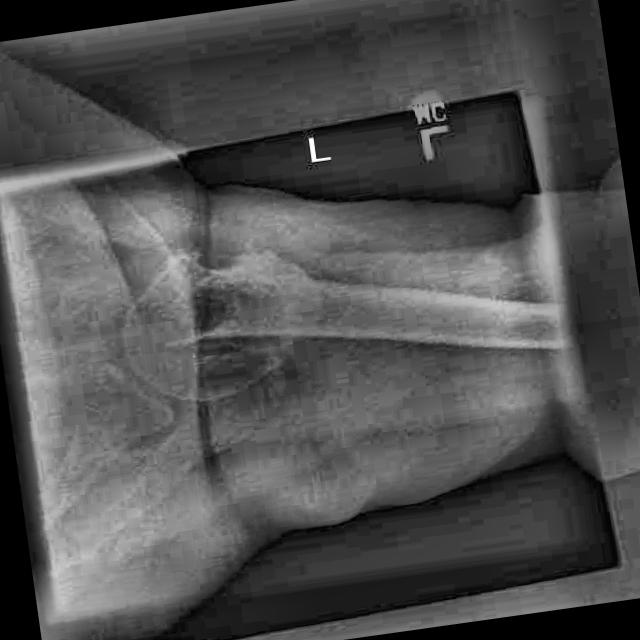shoulder fracture: (206, 239, 332, 315)
